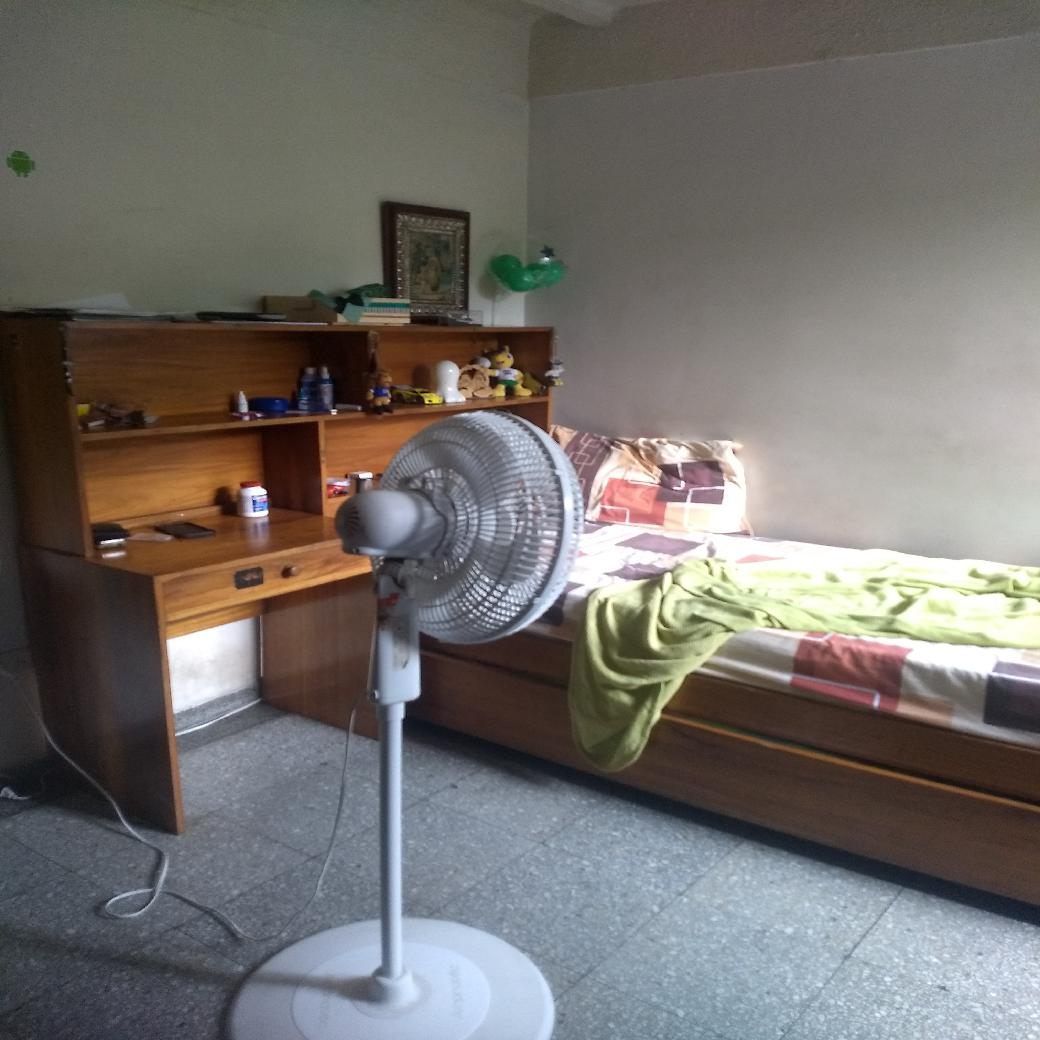ventilador: (334, 410, 582, 705)
